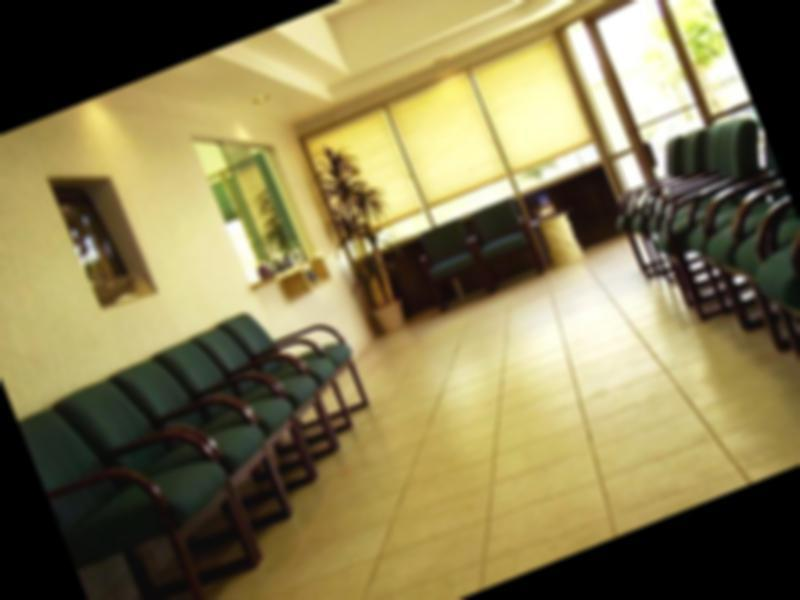Matera: (304, 137, 419, 340)
Puerta: (593, 0, 753, 150)
